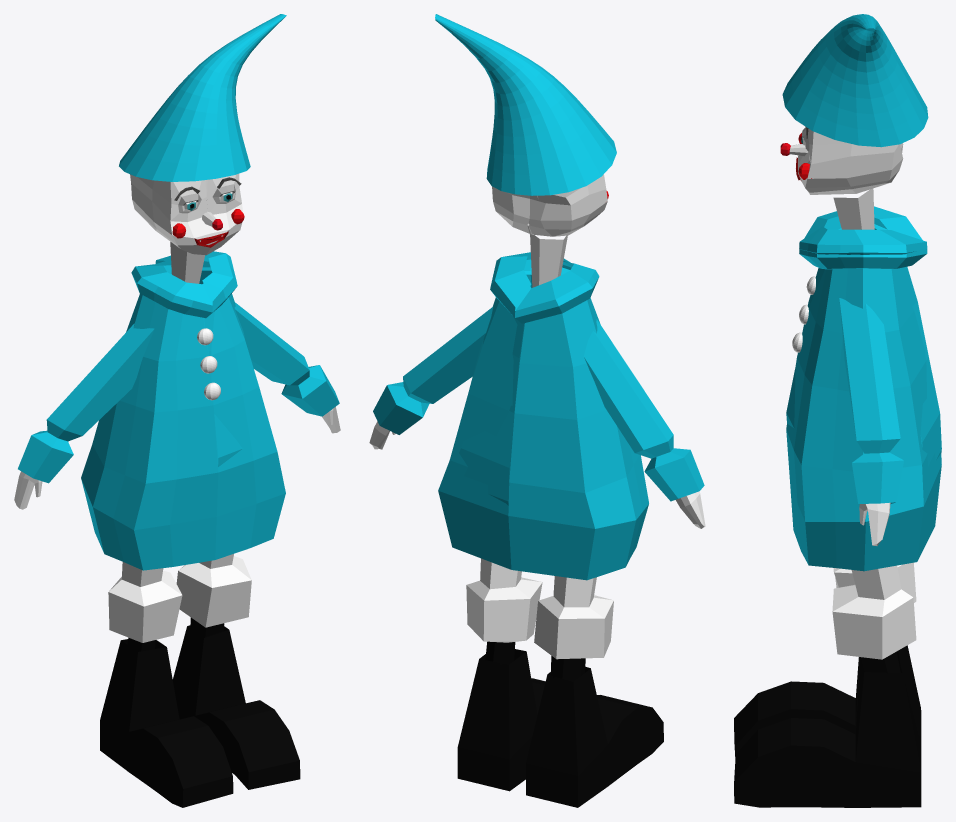
The model's file is bart2.0.glb.
3 renders of one model, left to right at view 1: azimuth 30°, elevation 25°; view 2: azimuth 150°, elevation 25°; view 3: azimuth 270°, elevation 25°, orthographic. The views are drawn at different scales.
Visible parts, largest first — view 1: Cube, Cylinder, Cylinder.003, Cylinder.001, Cube.001, Cube.003, Cylinder.002, Cylinder.005; view 2: Cube, Cylinder, Cylinder.003, Cylinder.001, Cube.003, Cube.001, Cylinder.002, Cylinder.005; view 3: Cube, Cylinder, Cylinder.003, Cylinder.001, Cube.003, Cube.001, Cylinder.002, Cylinder.005.
Boxes of the visible parts, <box> form: Cube: <box>81,258,285,570</box>; Cylinder: <box>100,554,300,807</box>; Cylinder.003: <box>119,14,286,181</box>; Cylinder.001: <box>18,302,339,483</box>; Cube.001: <box>130,173,244,255</box>; Cube.003: <box>155,251,242,466</box>; Cylinder.002: <box>170,242,204,283</box>; Cylinder.005: <box>14,406,340,509</box>; Cube: <box>438,256,648,580</box>; Cylinder: <box>457,558,663,807</box>; Cylinder.003: <box>435,14,616,195</box>; Cylinder.001: <box>373,307,704,501</box>; Cube.003: <box>459,252,570,505</box>; Cube.001: <box>492,174,608,236</box>; Cylinder.002: <box>530,234,567,287</box>; Cylinder.005: <box>369,421,705,528</box>; Cube: <box>786,206,941,571</box>; Cylinder: <box>734,562,921,807</box>; Cylinder.003: <box>782,14,928,147</box>; Cylinder.001: <box>839,298,903,504</box>; Cube.003: <box>786,226,941,466</box>; Cube.001: <box>796,125,903,194</box>; Cylinder.002: <box>833,188,874,229</box>; Cylinder.005: <box>859,502,890,545</box>.
Size of the model in its own units: 2.14 by 4.52 by 1.06.
